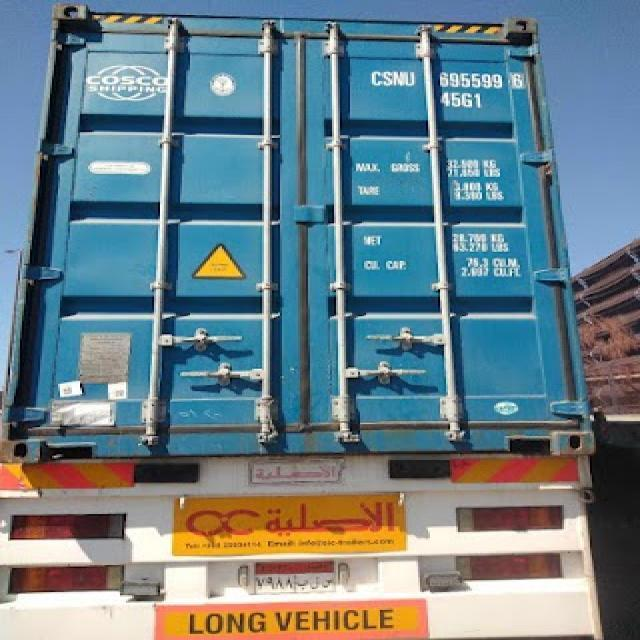ISO: (444, 91, 484, 111)
container_number: (190, 610, 392, 634), (374, 70, 524, 90)
